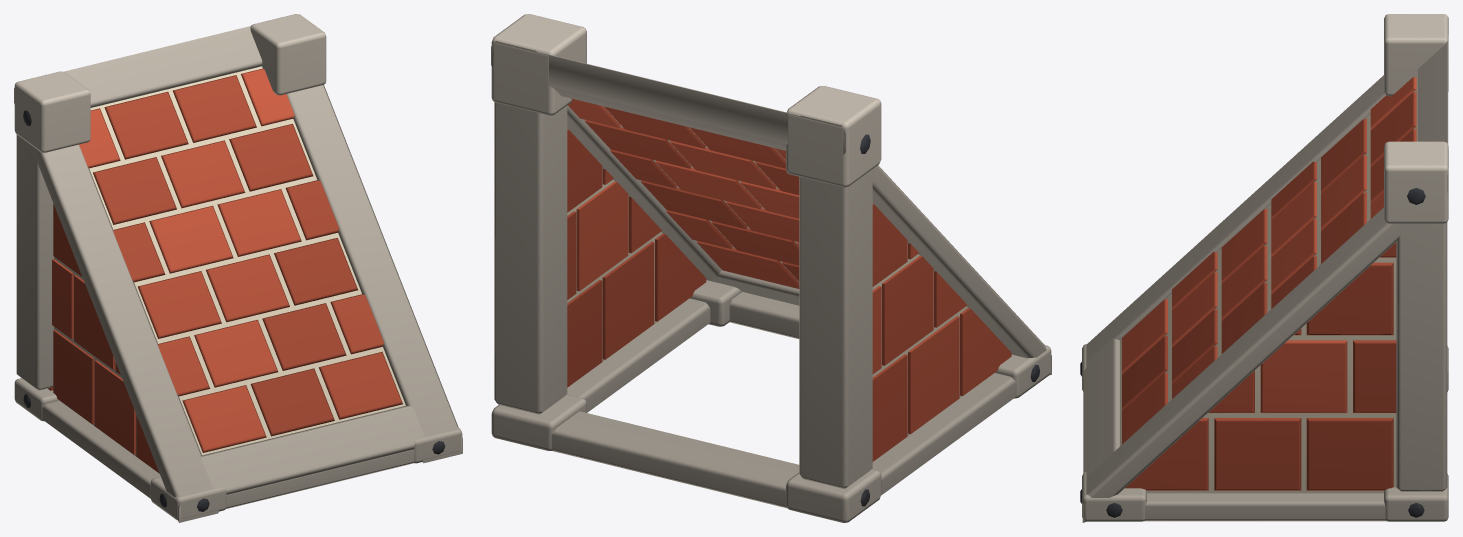
File: ramp_brick.glb
3 renders of one model, left to right at view 1: azimuth 30°, elevation 25°; view 2: azimuth 150°, elevation 25°; view 3: azimuth 270°, elevation 25°, orthographic. The views are drawn at different scales.
Parts seen in each view (by area): view 1: ramp_brick; view 2: ramp_brick; view 3: ramp_brick.
Boxes of the visible parts, box(x1,y1,x2,y2) form: ramp_brick: box(14, 14, 462, 522); ramp_brick: box(491, 14, 1051, 522); ramp_brick: box(1080, 14, 1448, 522).
Size of the model in its own units: 4 by 4.25 by 3.98.
